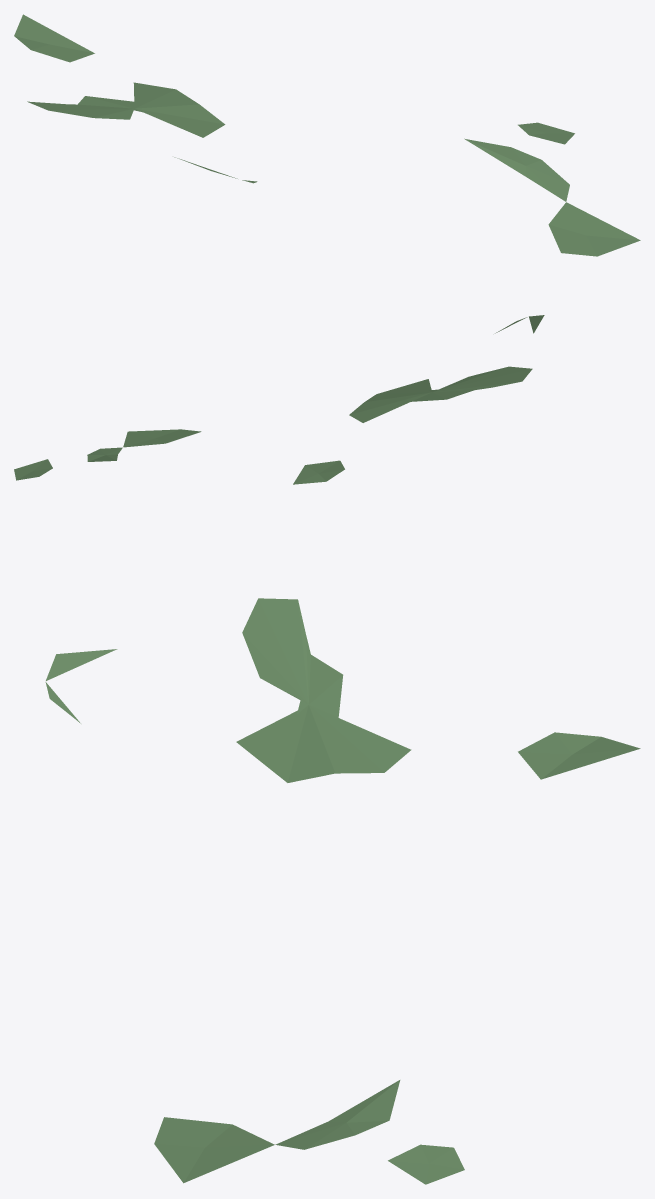
File: c_1665_17816_forest.glb
The picture shows the model from 3 angles, top to bottom: view 1: azimuth 30°, elevation 25°; view 2: azimuth 150°, elevation 25°; view 3: azimuth 270°, elevation 25°; orthographic projection. The views are drawn at different scales.
Parts seen in each view (by area): view 1: geometry_0; view 2: geometry_0; view 3: geometry_0.
Part boxes in pixels (box(x1,y1,x2,y2)): geometry_0: box(14, 14, 640, 256); geometry_0: box(14, 315, 544, 484); geometry_0: box(45, 598, 640, 1184).
Size of the model in its own units: 246 by 105 by 180.
